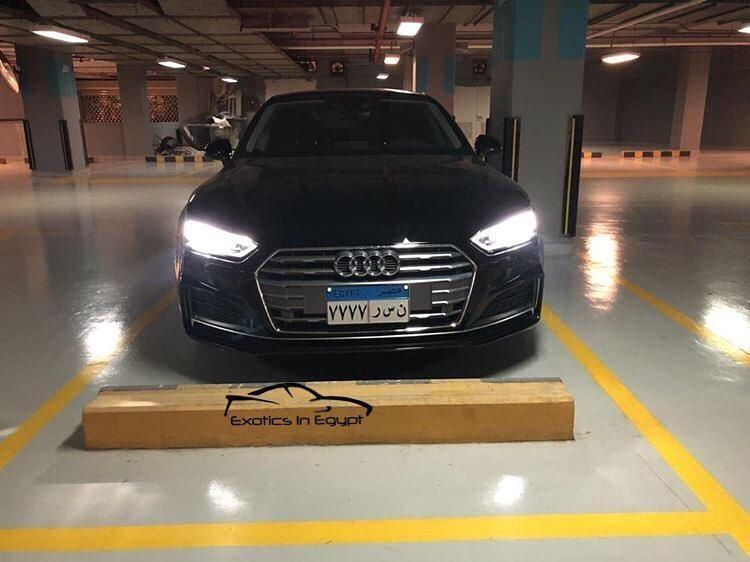7: (357, 303, 367, 320), (348, 303, 358, 320), (328, 304, 338, 321), (338, 304, 347, 320)
License Plate: (325, 281, 411, 326)
Noon: (397, 303, 408, 319)
R: (371, 305, 381, 320)
Seen: (383, 304, 395, 318)
car: (170, 91, 548, 361)
